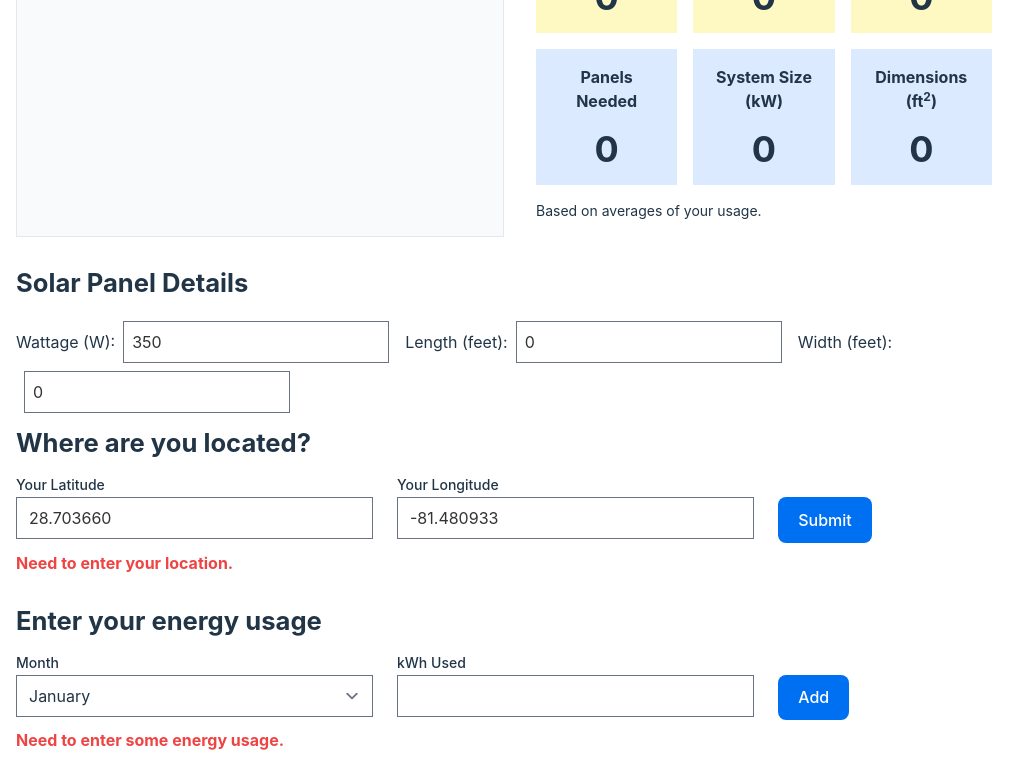
Test case: Energy input affects daily kWh › see it in final calculations
The width and height of the screenshot is (1024, 768).
(page scrolled)
Select "January" in the dropdown named "month". click: x=194, y=696
box: [16,675,373,717]
Type "1612" into the number field with test id "kWhEntry". click: x=576, y=696
box: [397,675,754,717]
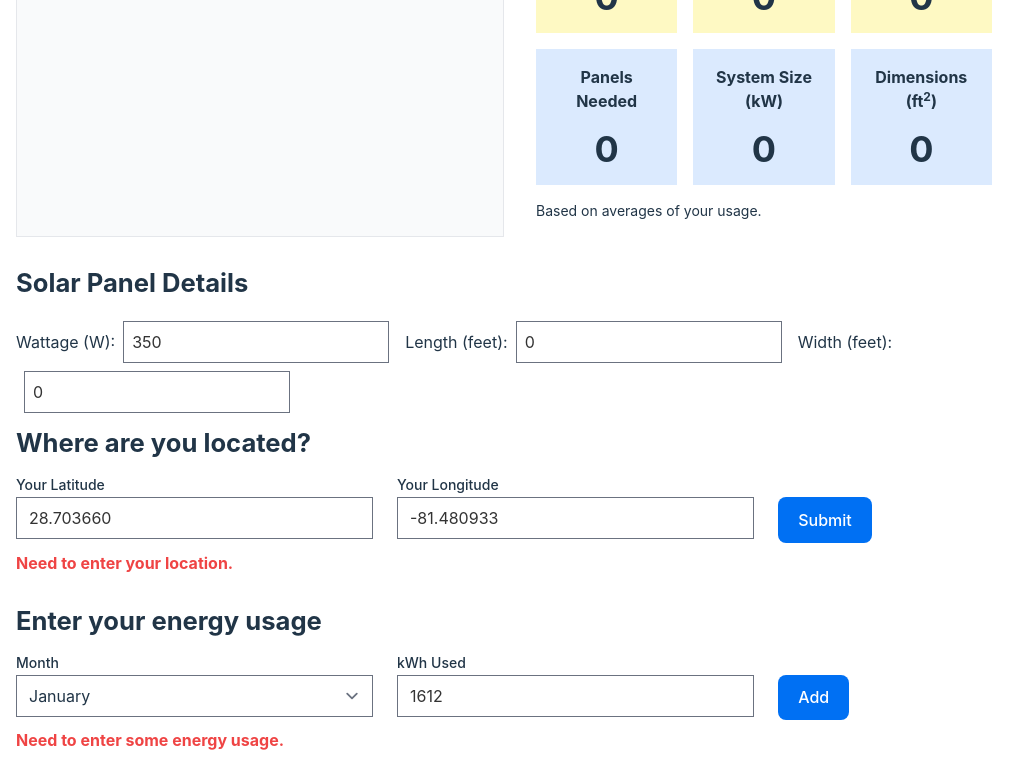
Submit the form with test id "energyEntryForm", box [16,654,849,720]
(page scrolled)
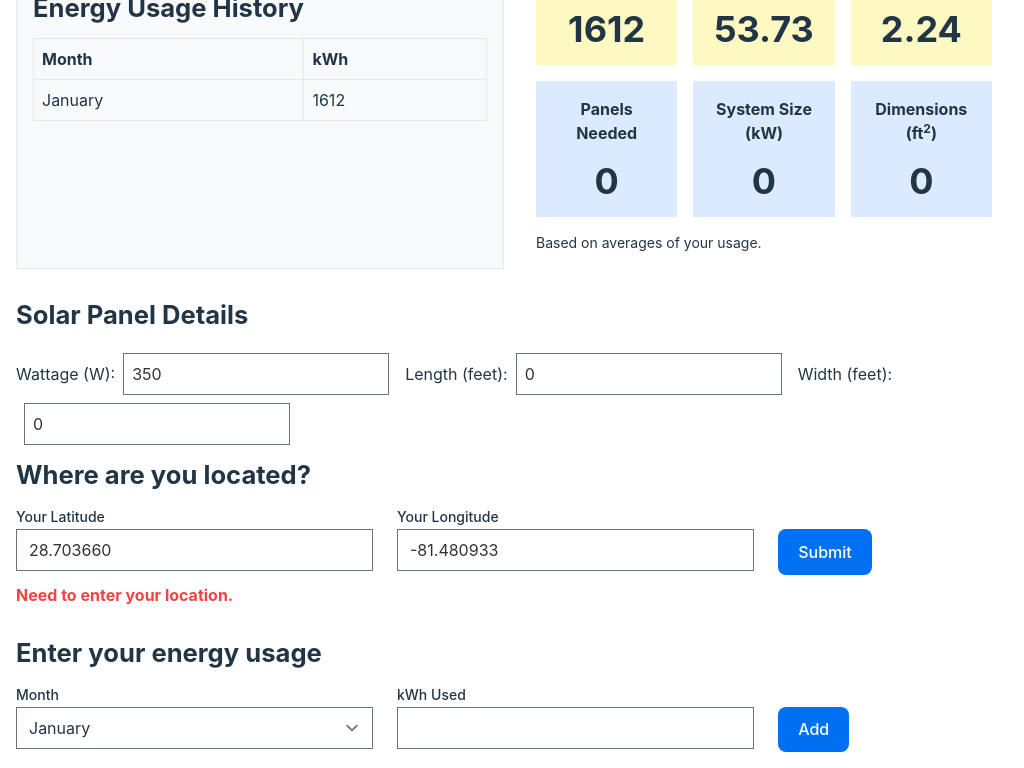
Check: the text "53.73" is shown, box [709,9,819,49]
Select "February" in the dropdown named "month". click: x=194, y=728
box: [16,707,373,749]
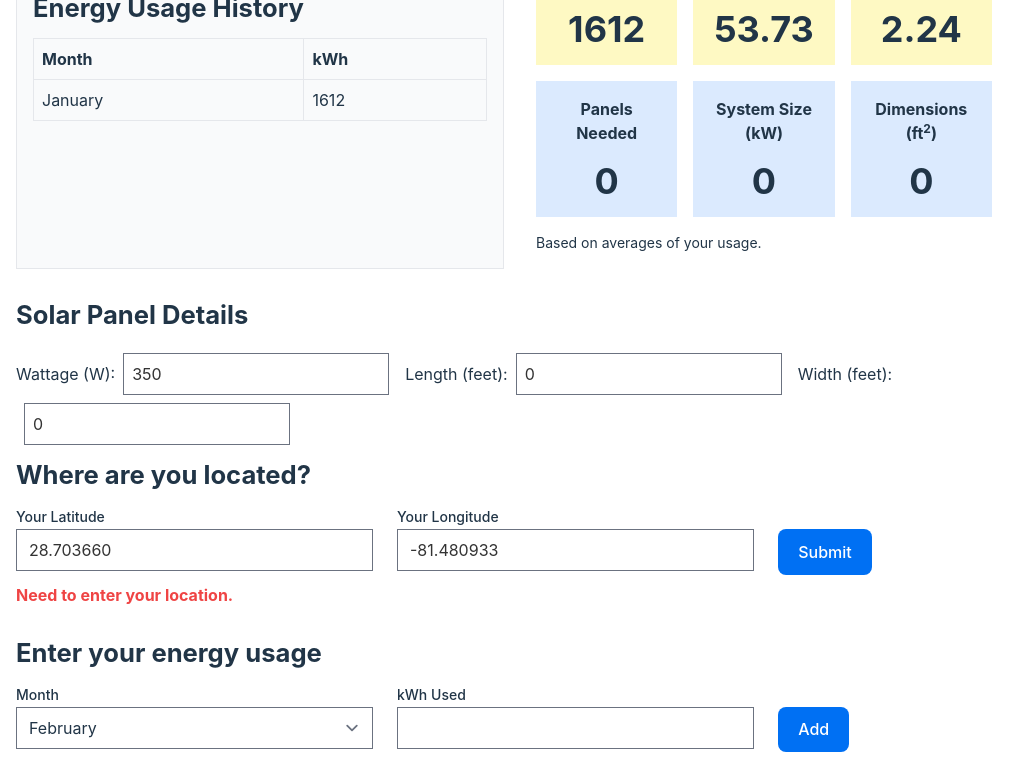
Type "2042" into the number field with test id "kWhEntry". click: x=576, y=728
box: [397,707,754,749]
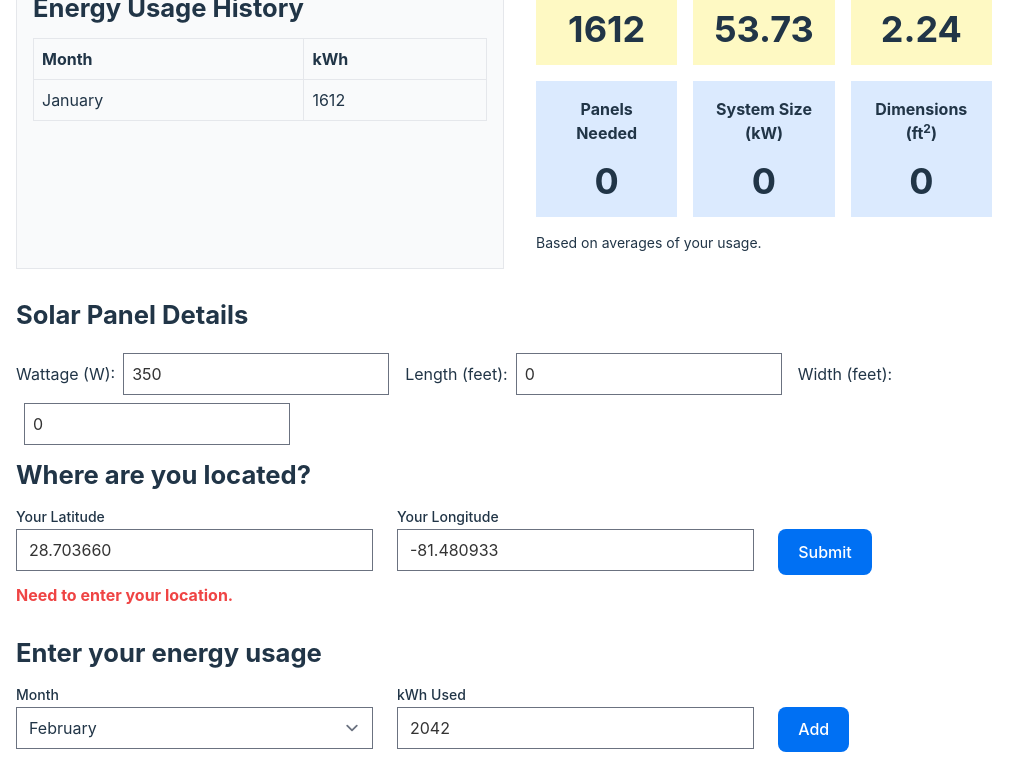
Submit the form with test id "energyEntryForm", box [16,686,849,752]
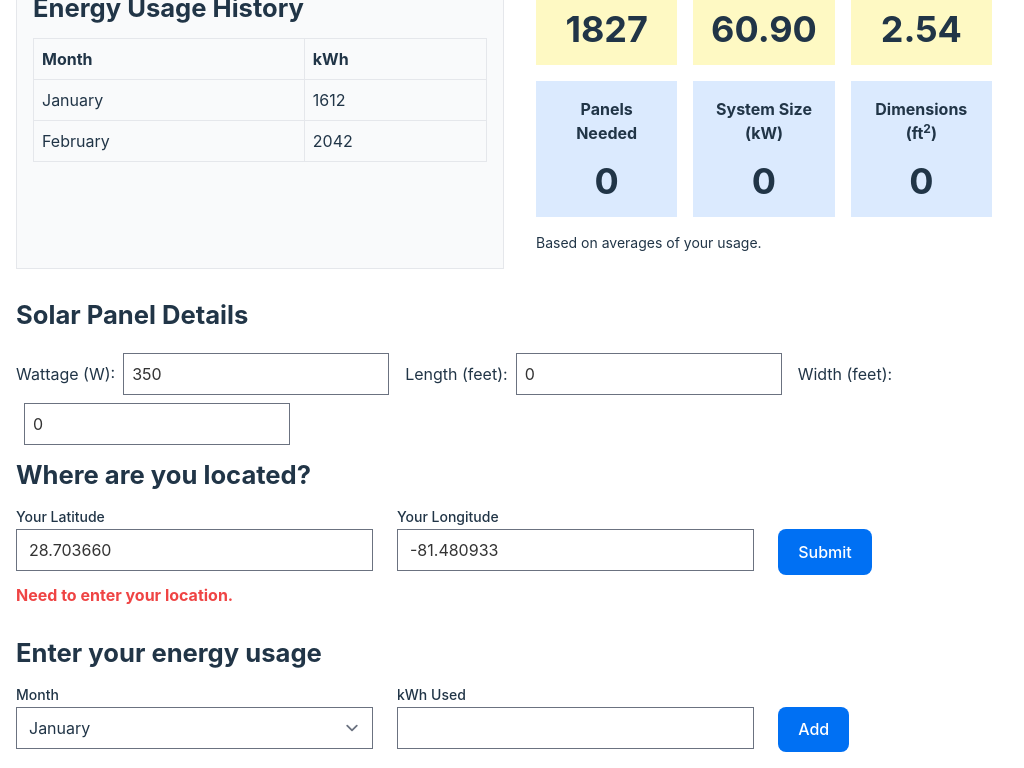
Check: the text "60.90" is shown, box [709,9,819,49]
